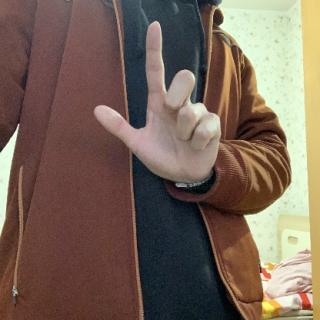LAAM: (91, 18, 231, 201)
